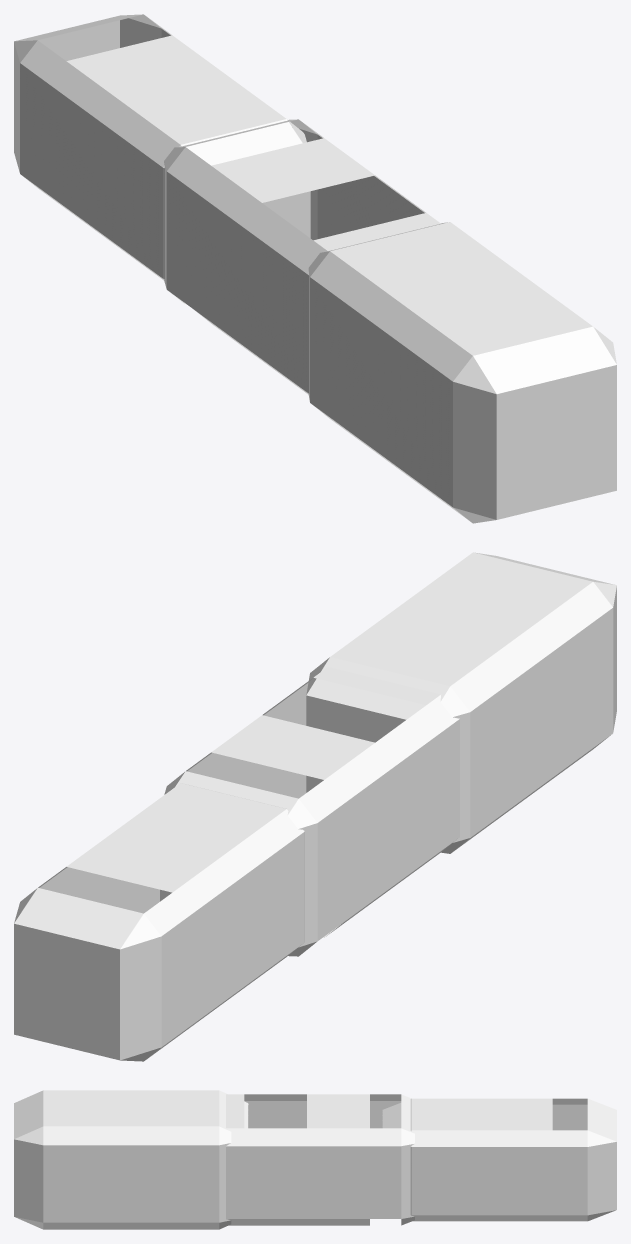
Rendered from Mo_FB_Tail_Long.fbx.
3 renders of one model, top to bottom at view 1: azimuth 30°, elevation 25°; view 2: azimuth 150°, elevation 25°; view 3: azimuth 270°, elevation 25°, orthographic. The views are drawn at different scales.
Visible parts, largest first — view 1: beveled_cuboid_2, beveled_cuboid, beveled_cuboid_1; view 2: beveled_cuboid, beveled_cuboid_2, beveled_cuboid_1; view 3: beveled_cuboid_2, beveled_cuboid, beveled_cuboid_1.
Boxes of the visible parts, x1=… form: beveled_cuboid_2: x1=308, y1=222, x2=616, y2=523; beveled_cuboid: x1=14, y1=14, x2=310, y2=280; beveled_cuboid_1: x1=164, y1=119, x2=440, y2=394; beveled_cuboid: x1=14, y1=783, x2=304, y2=1061; beveled_cuboid_2: x1=306, y1=552, x2=616, y2=853; beveled_cuboid_1: x1=160, y1=667, x2=459, y2=956; beveled_cuboid_2: x1=14, y1=1090, x2=248, y2=1229; beveled_cuboid: x1=382, y1=1098, x2=616, y2=1221; beveled_cuboid_1: x1=226, y1=1094, x2=414, y2=1225.
Size of the model in its own units: 21.25 by 21.25 by 112.
